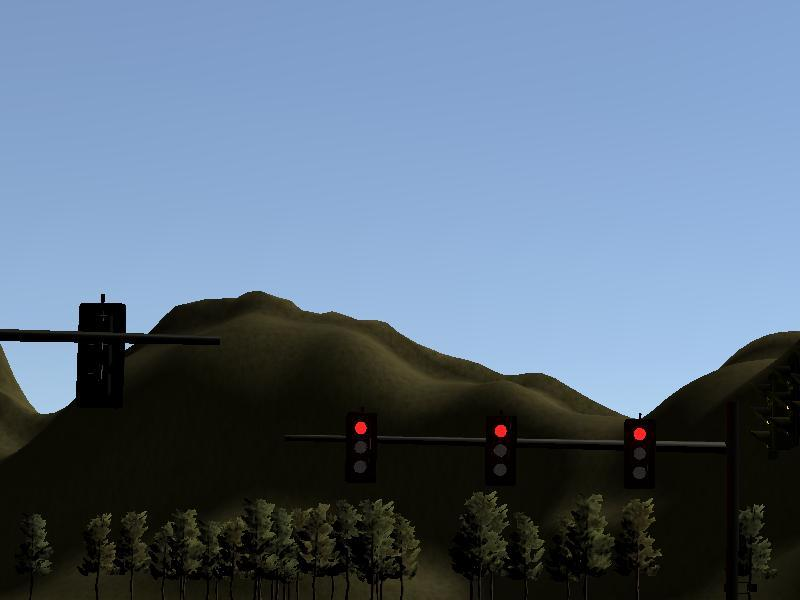Red: (345, 411, 377, 484), (622, 417, 654, 490), (483, 416, 515, 489)
